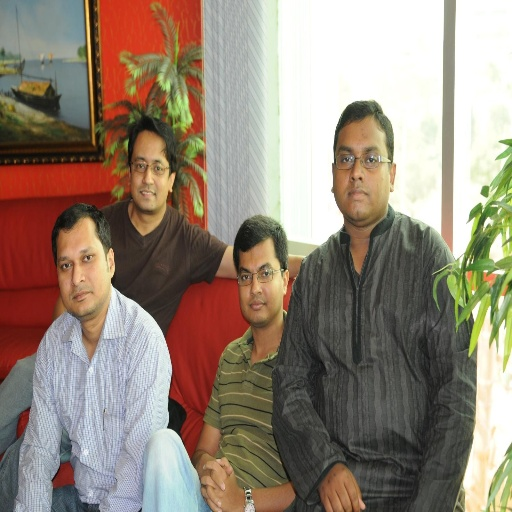hand: (318, 461, 365, 511), (195, 456, 233, 511)
